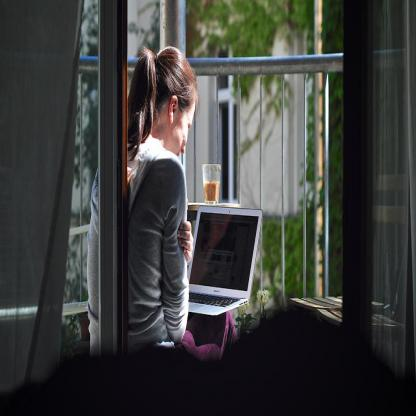board: (175, 194, 265, 318), (201, 164, 221, 205)
